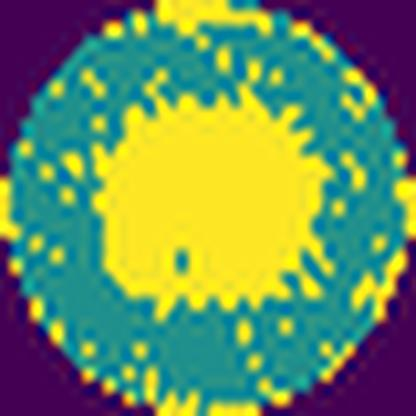Center: (94, 74, 334, 323)
